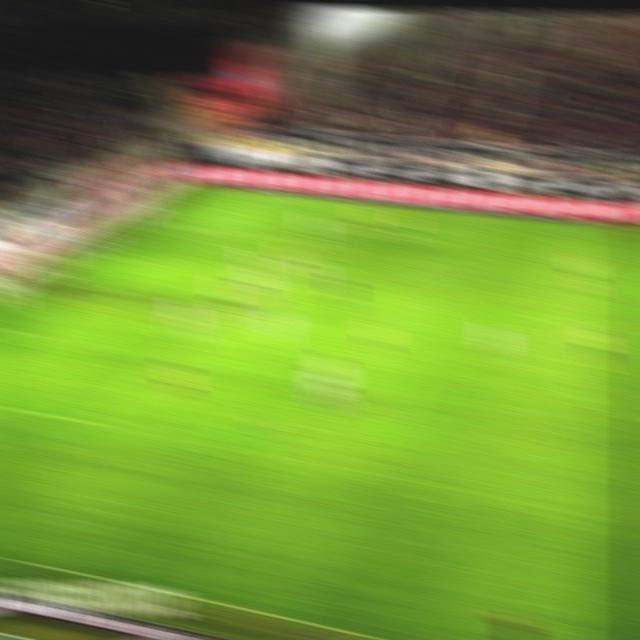bigarea_bottom_inner: (84, 417, 112, 432)
bigarea_top_inner: (280, 232, 308, 246)
bigarea_top_outter: (131, 214, 159, 229)
bottom_arc_area_intersection: (167, 337, 196, 353)
corner: (184, 184, 212, 198)
smallarea_bottom_inner: (23, 327, 51, 342)
smallarea_top_inner: (130, 254, 158, 268)
smallarea_top_outter: (79, 246, 107, 261)
top_arc_area_intersection: (235, 276, 262, 290)
